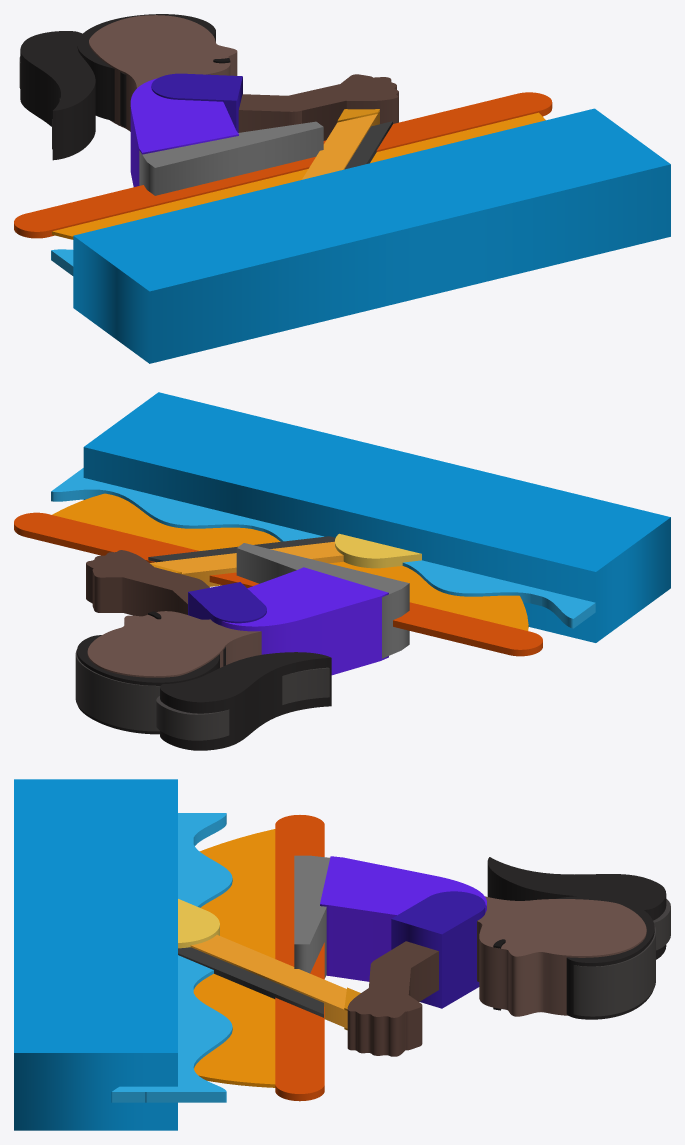
The model's file is emoji_u1f6a3_1f3ff_200d_2640.glb.
3 renders of one model, top to bottom at view 1: azimuth 30°, elevation 25°; view 2: azimuth 150°, elevation 25°; view 3: azimuth 270°, elevation 25°, orthographic. The views are drawn at different scales.
Visible parts, largest first — view 1: emoji_u1f6a3_1f3ff_200d_2640; view 2: emoji_u1f6a3_1f3ff_200d_2640; view 3: emoji_u1f6a3_1f3ff_200d_2640.
Part boxes in pixels (<box>): emoji_u1f6a3_1f3ff_200d_2640: <box>14,14,670,363</box>; emoji_u1f6a3_1f3ff_200d_2640: <box>14,392,670,750</box>; emoji_u1f6a3_1f3ff_200d_2640: <box>14,779,670,1130</box>.
Bounding box in the file's own units: 0.0339 × 0.0044 × 0.0336.
